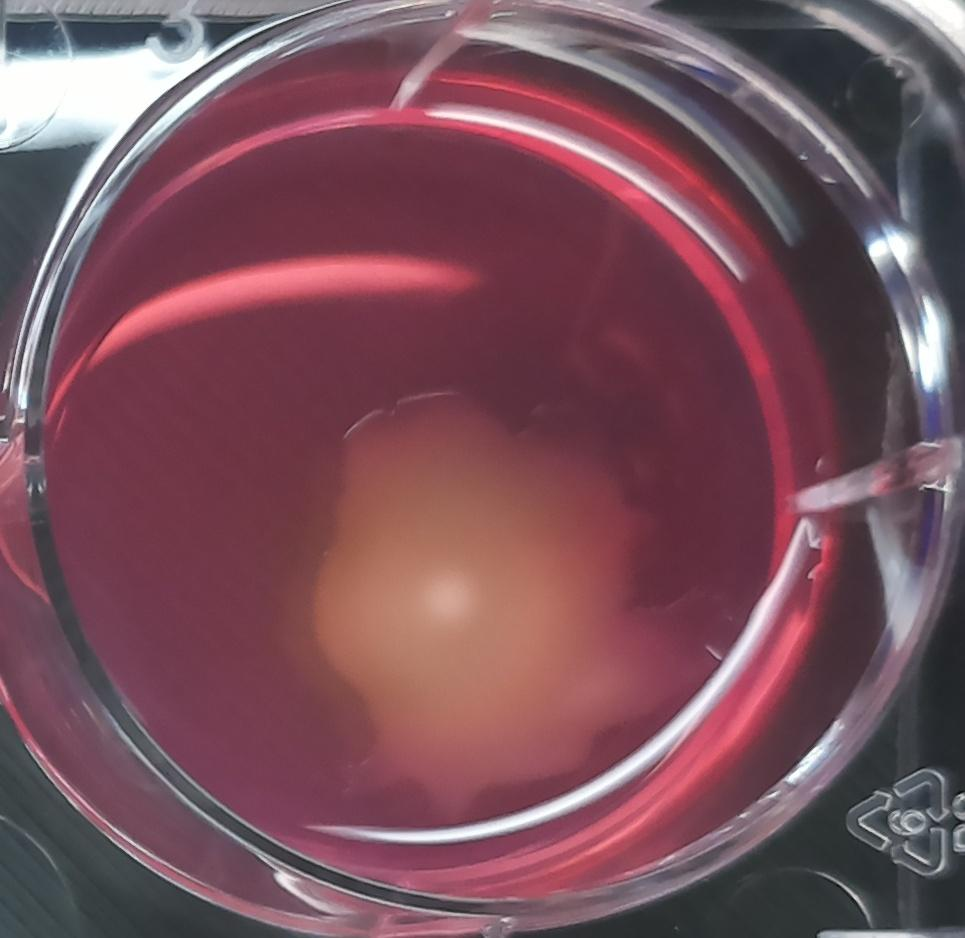valgino: (286, 334, 724, 818)
